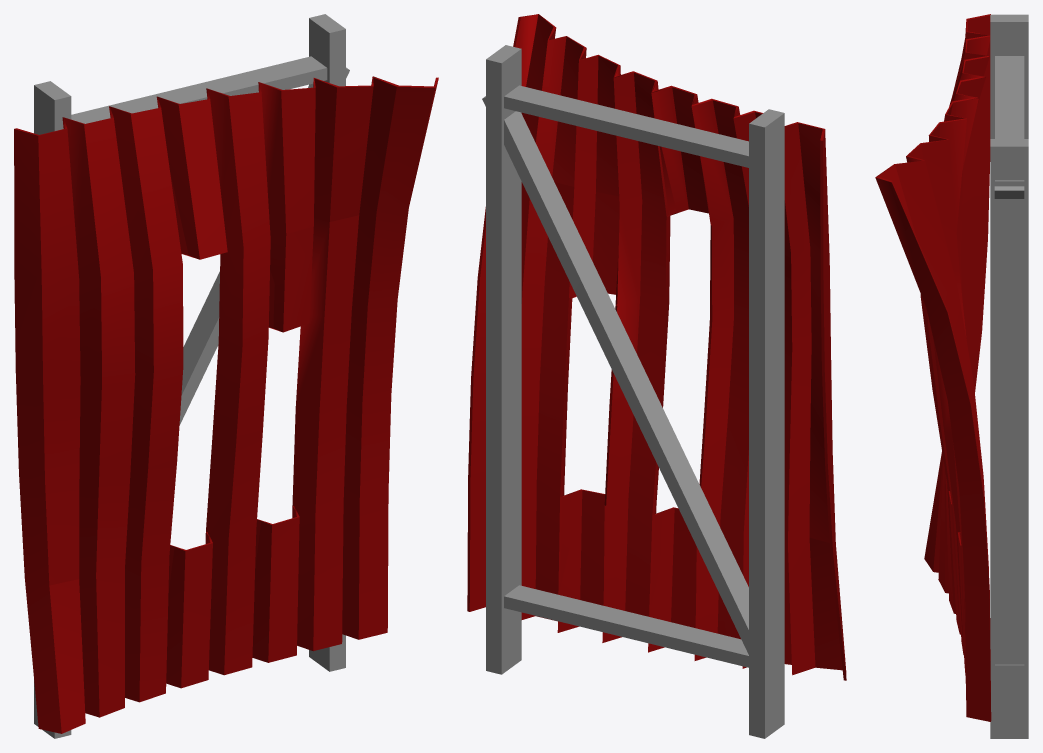
The model's file is Cover3.FBX.
3 renders of one model, left to right at view 1: azimuth 30°, elevation 25°; view 2: azimuth 150°, elevation 25°; view 3: azimuth 270°, elevation 25°, orthographic. The views are drawn at different scales.
Parts seen in each view (by area): view 1: Cover3; view 2: Cover3; view 3: Cover3.
Boxes of the visible parts, <box> form: Cover3: <box>14,14,438,738</box>; Cover3: <box>467,14,846,738</box>; Cover3: <box>875,14,1028,738</box>.
Bounding box in the file's own units: 160 × 263 × 61.87.
